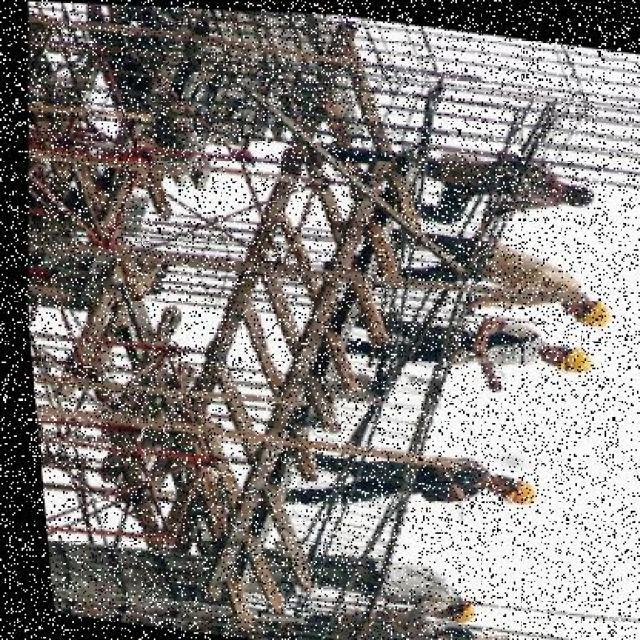helmet: (542, 336, 592, 380), (491, 471, 537, 508), (566, 286, 610, 324)
